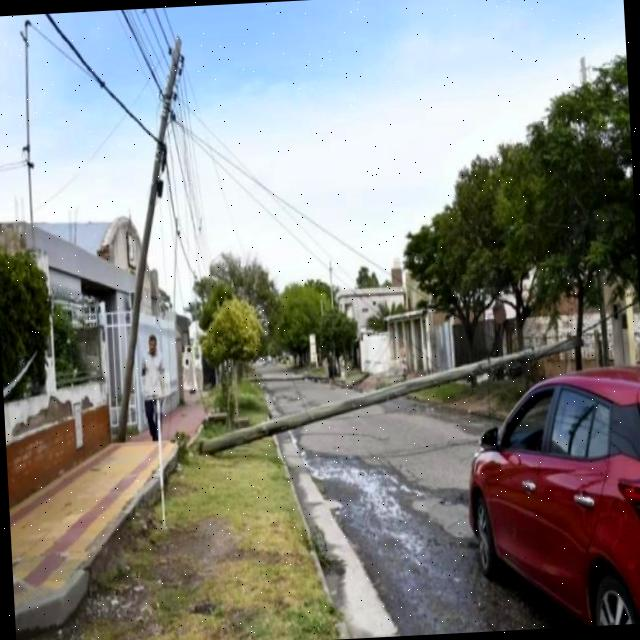Broken Pole: (196, 336, 584, 456), (117, 34, 186, 441)
